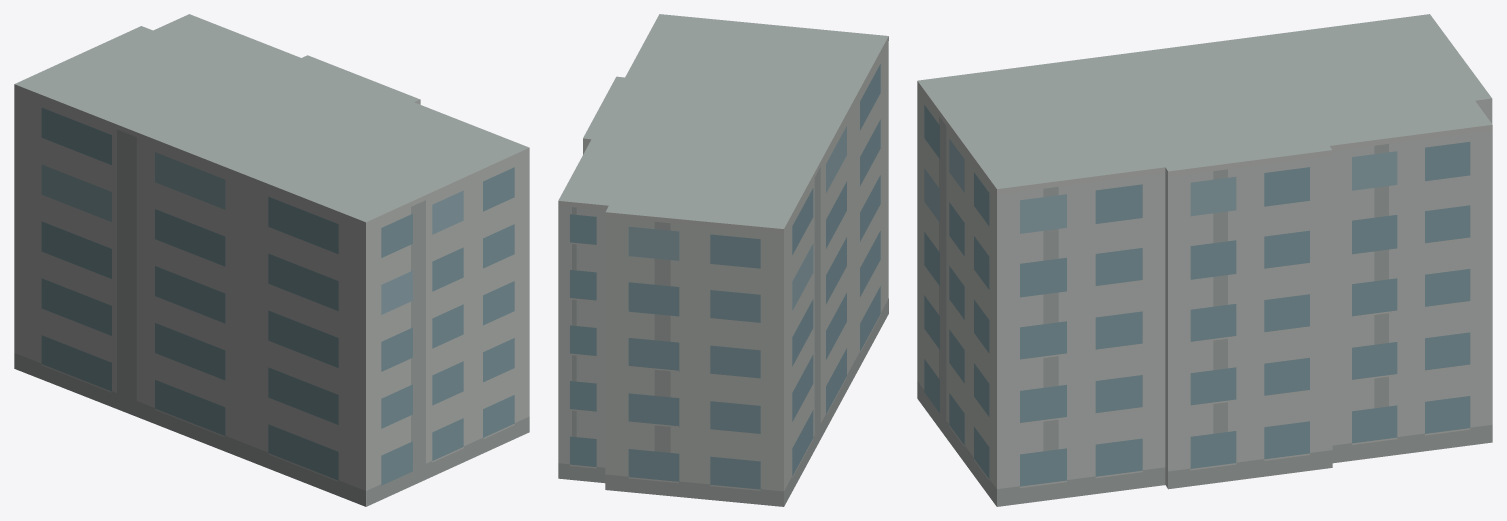
File: survey-upis-32767679.glb
3 renders of one model, left to right at view 1: azimuth 30°, elevation 25°; view 2: azimuth 150°, elevation 25°; view 3: azimuth 270°, elevation 25°, orthographic. The views are drawn at different scales.
Visible parts, largest first — view 1: survey-upis-32767679.tmp; view 2: survey-upis-32767679.tmp; view 3: survey-upis-32767679.tmp.
Part boxes in pixels (bbox=[...]): survey-upis-32767679.tmp: bbox=[14, 14, 529, 506]; survey-upis-32767679.tmp: bbox=[558, 14, 888, 506]; survey-upis-32767679.tmp: bbox=[917, 14, 1492, 506].
Size of the model in its own units: 16.33 by 13.8 by 22.66.
